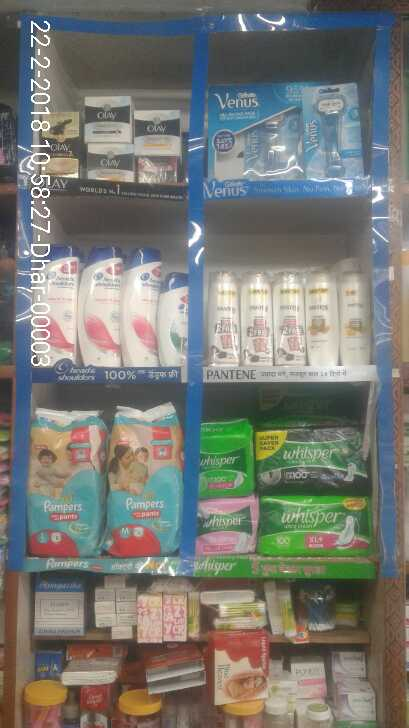venus: (210, 87, 303, 174), (308, 81, 362, 177)
